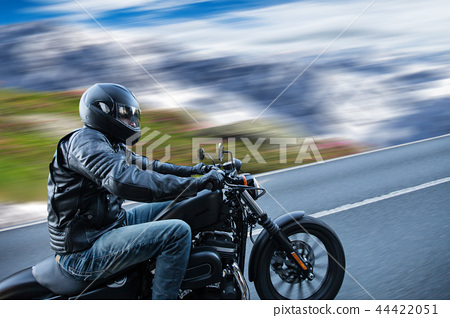helmet: (78, 81, 147, 143)
